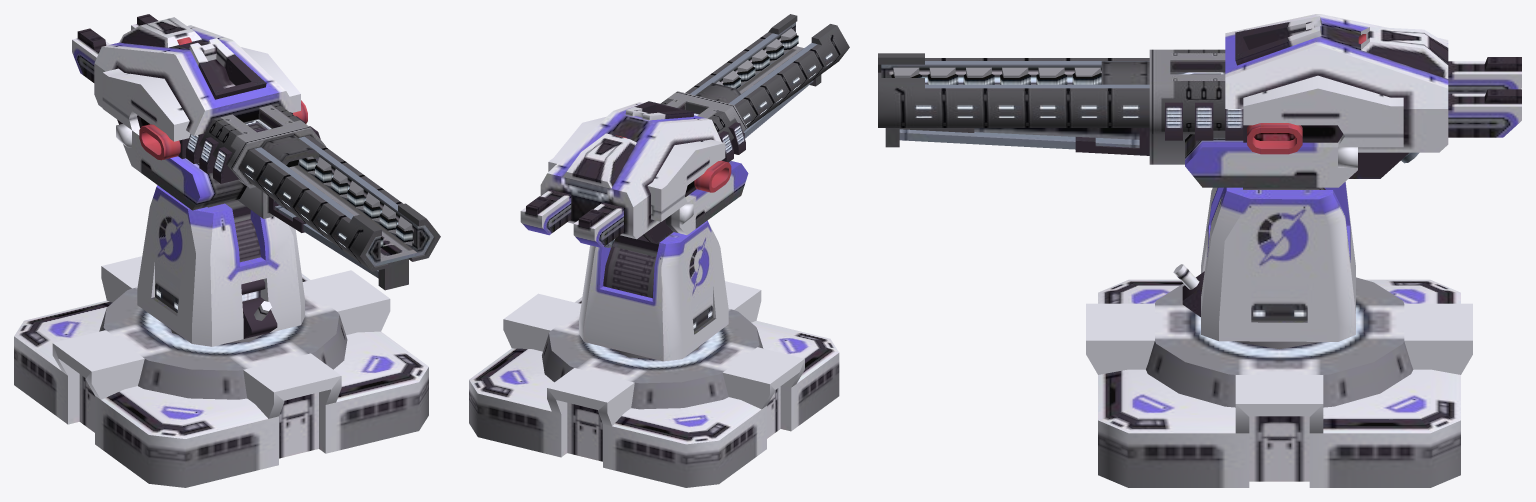
3 renders of one model, left to right at view 1: azimuth 30°, elevation 25°; view 2: azimuth 150°, elevation 25°; view 3: azimuth 270°, elevation 25°, orthographic. The views are drawn at different scales.
Parts seen in each view (by area): view 1: em-rail-ejector; view 2: em-rail-ejector; view 3: em-rail-ejector.
Part boxes in pixels (x1,y1,x2,y2): em-rail-ejector: (14, 14, 440, 487); em-rail-ejector: (469, 14, 849, 487); em-rail-ejector: (878, 14, 1521, 487).
Bounding box in the file's own units: 6.4 × 7.08 × 10.65.
Materials: 1 (1 with a texture image).
